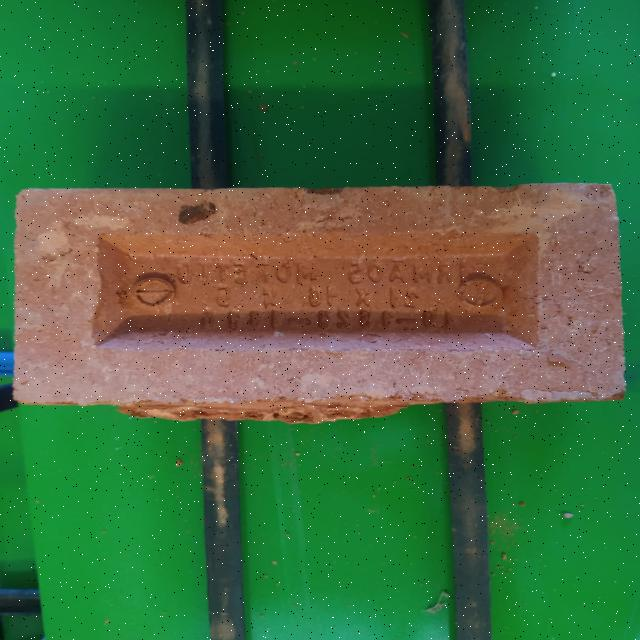bricks_ruin: (11, 184, 625, 420)
